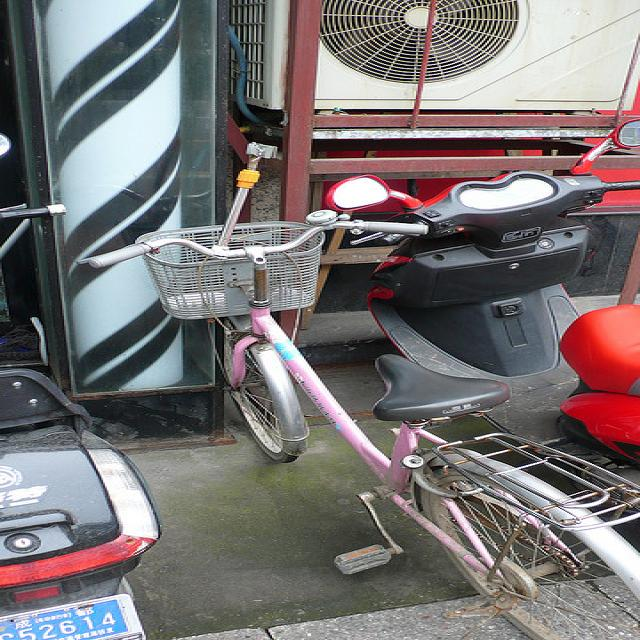motor: (322, 116, 640, 488), (0, 201, 156, 639)
